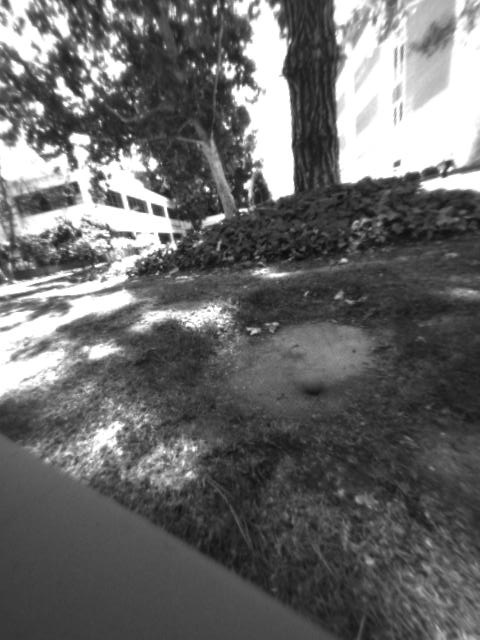dogtoy: (287, 367, 338, 409)
